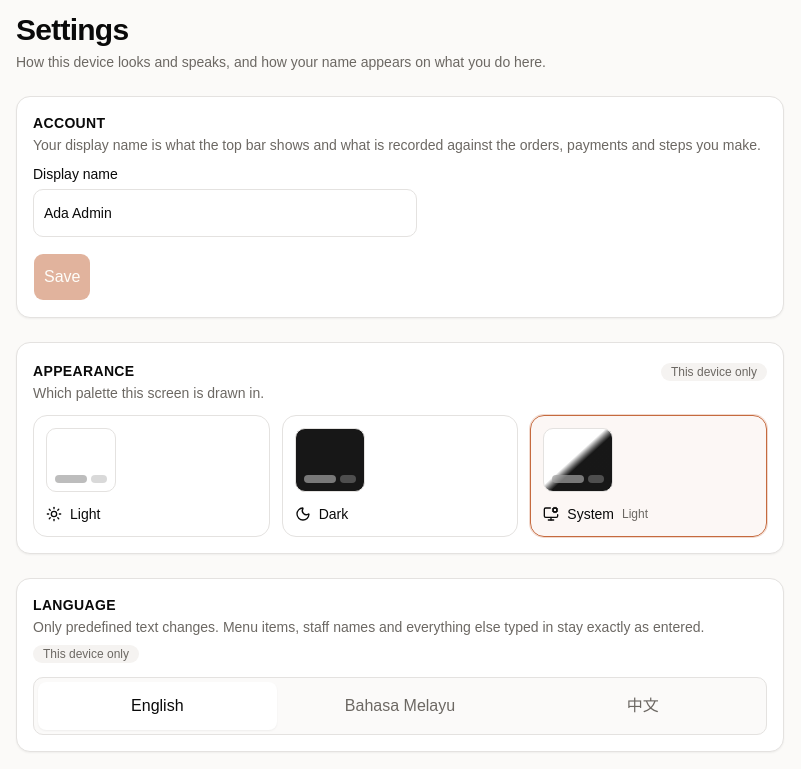
it: the account panel › confirms a save where the action was
Replace the text in the field with test id "display-name" with "Ada Lovelace": (225, 213) 33,189 -> 417,237
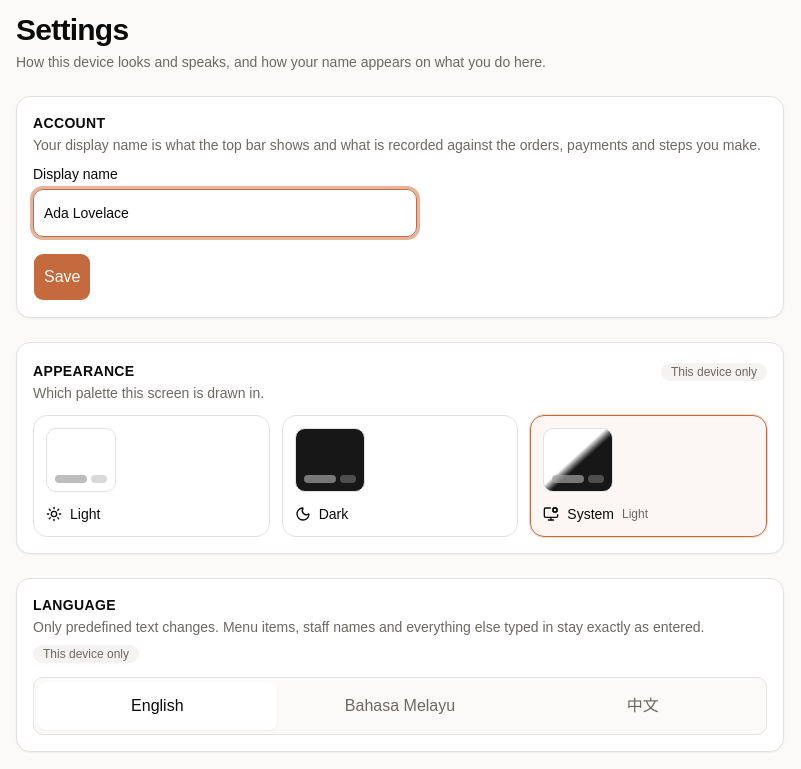
Click the button with test id "save-display-name": (62, 277) 33,253 -> 92,301
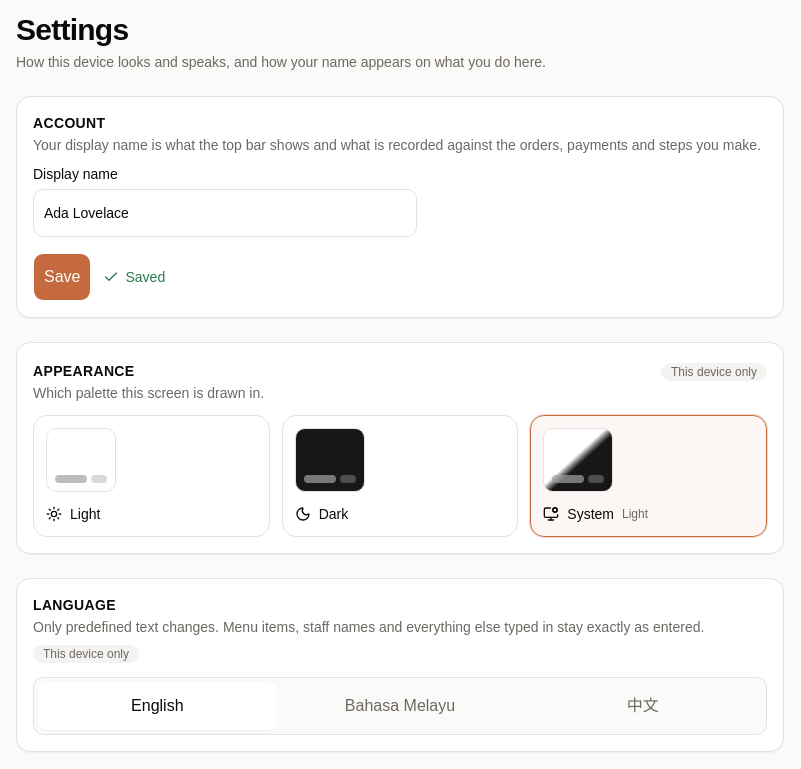
Now the message "Saved" is shown, box 104,267 -> 165,287
Now the message with test id "display-name-saved" reads "Saved", box 126,269 -> 165,285
